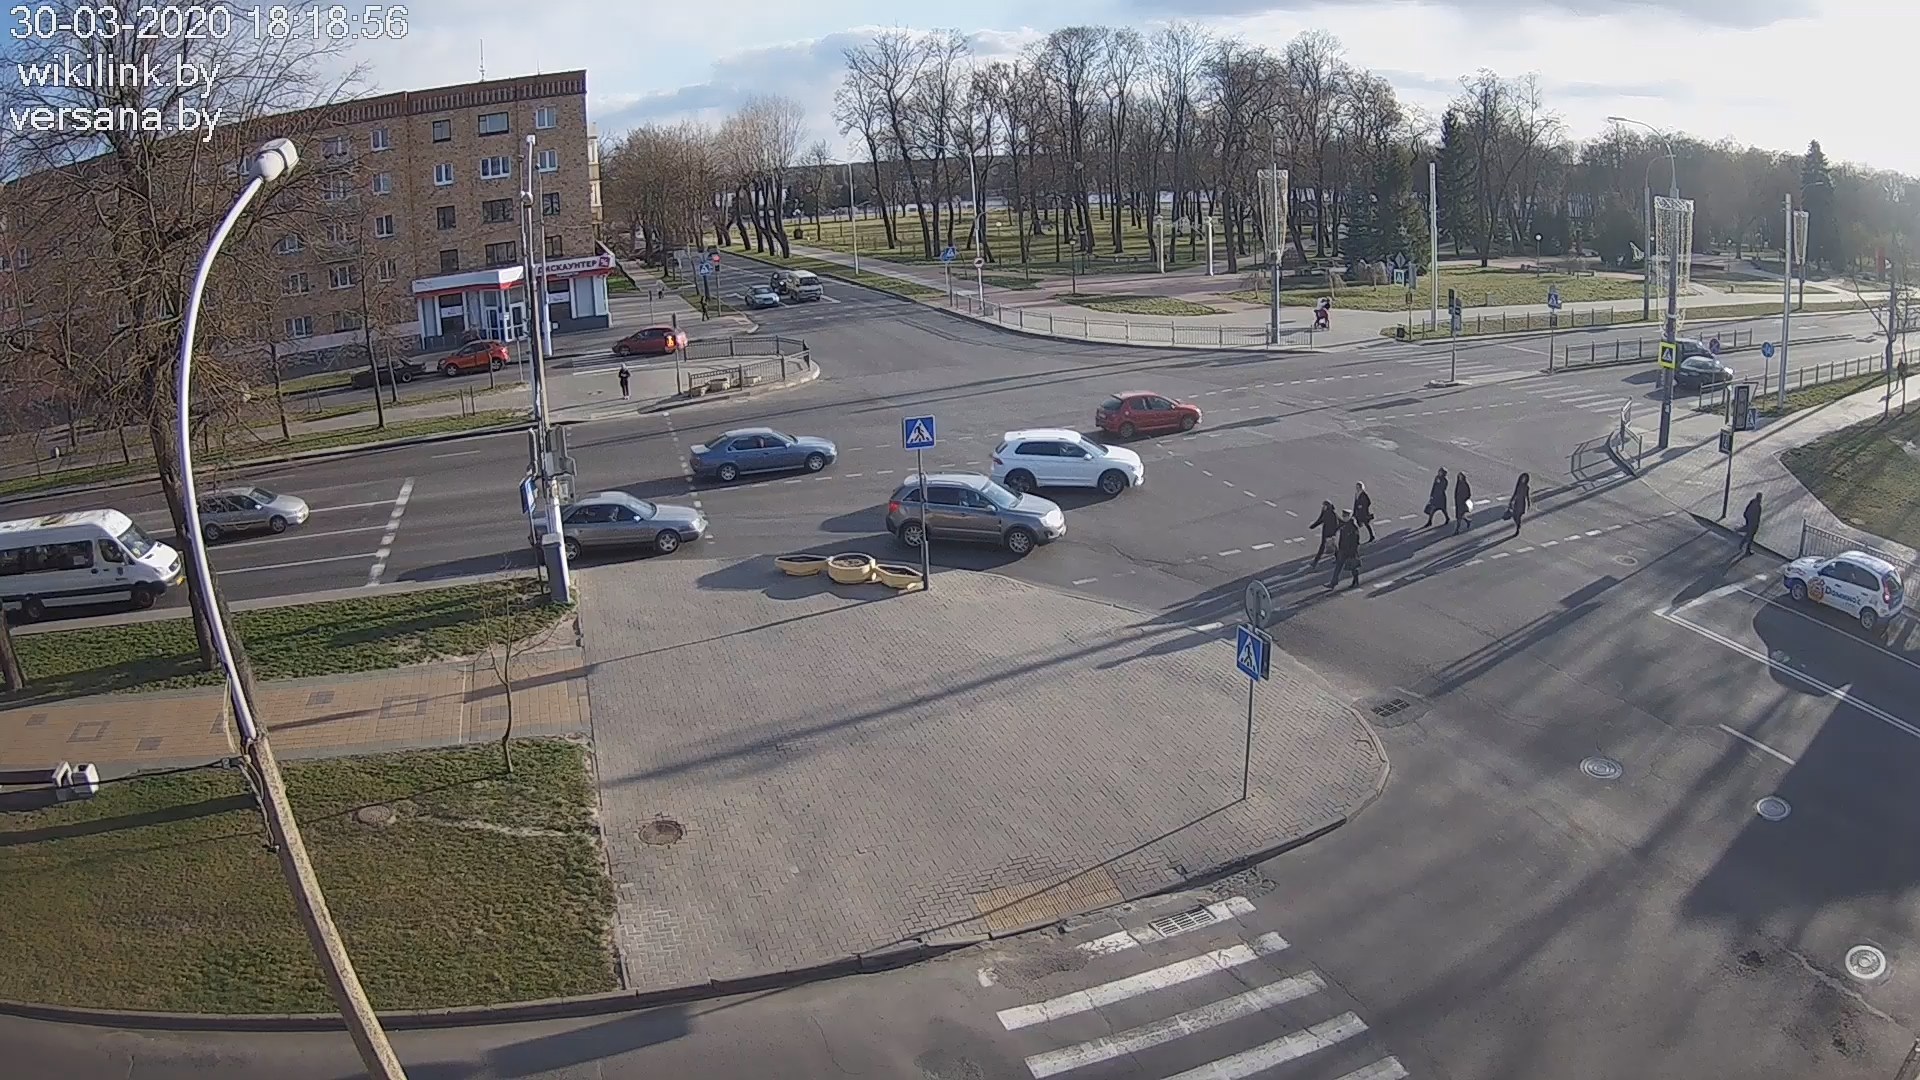car: (1, 506, 182, 621), (886, 469, 1067, 555), (529, 491, 705, 562), (990, 429, 1145, 495), (1783, 550, 1905, 632), (688, 426, 837, 483), (196, 485, 310, 541), (1095, 389, 1203, 438), (436, 339, 512, 376), (351, 355, 426, 389), (611, 324, 688, 356), (1675, 356, 1734, 388), (785, 269, 824, 301), (745, 284, 779, 309)
